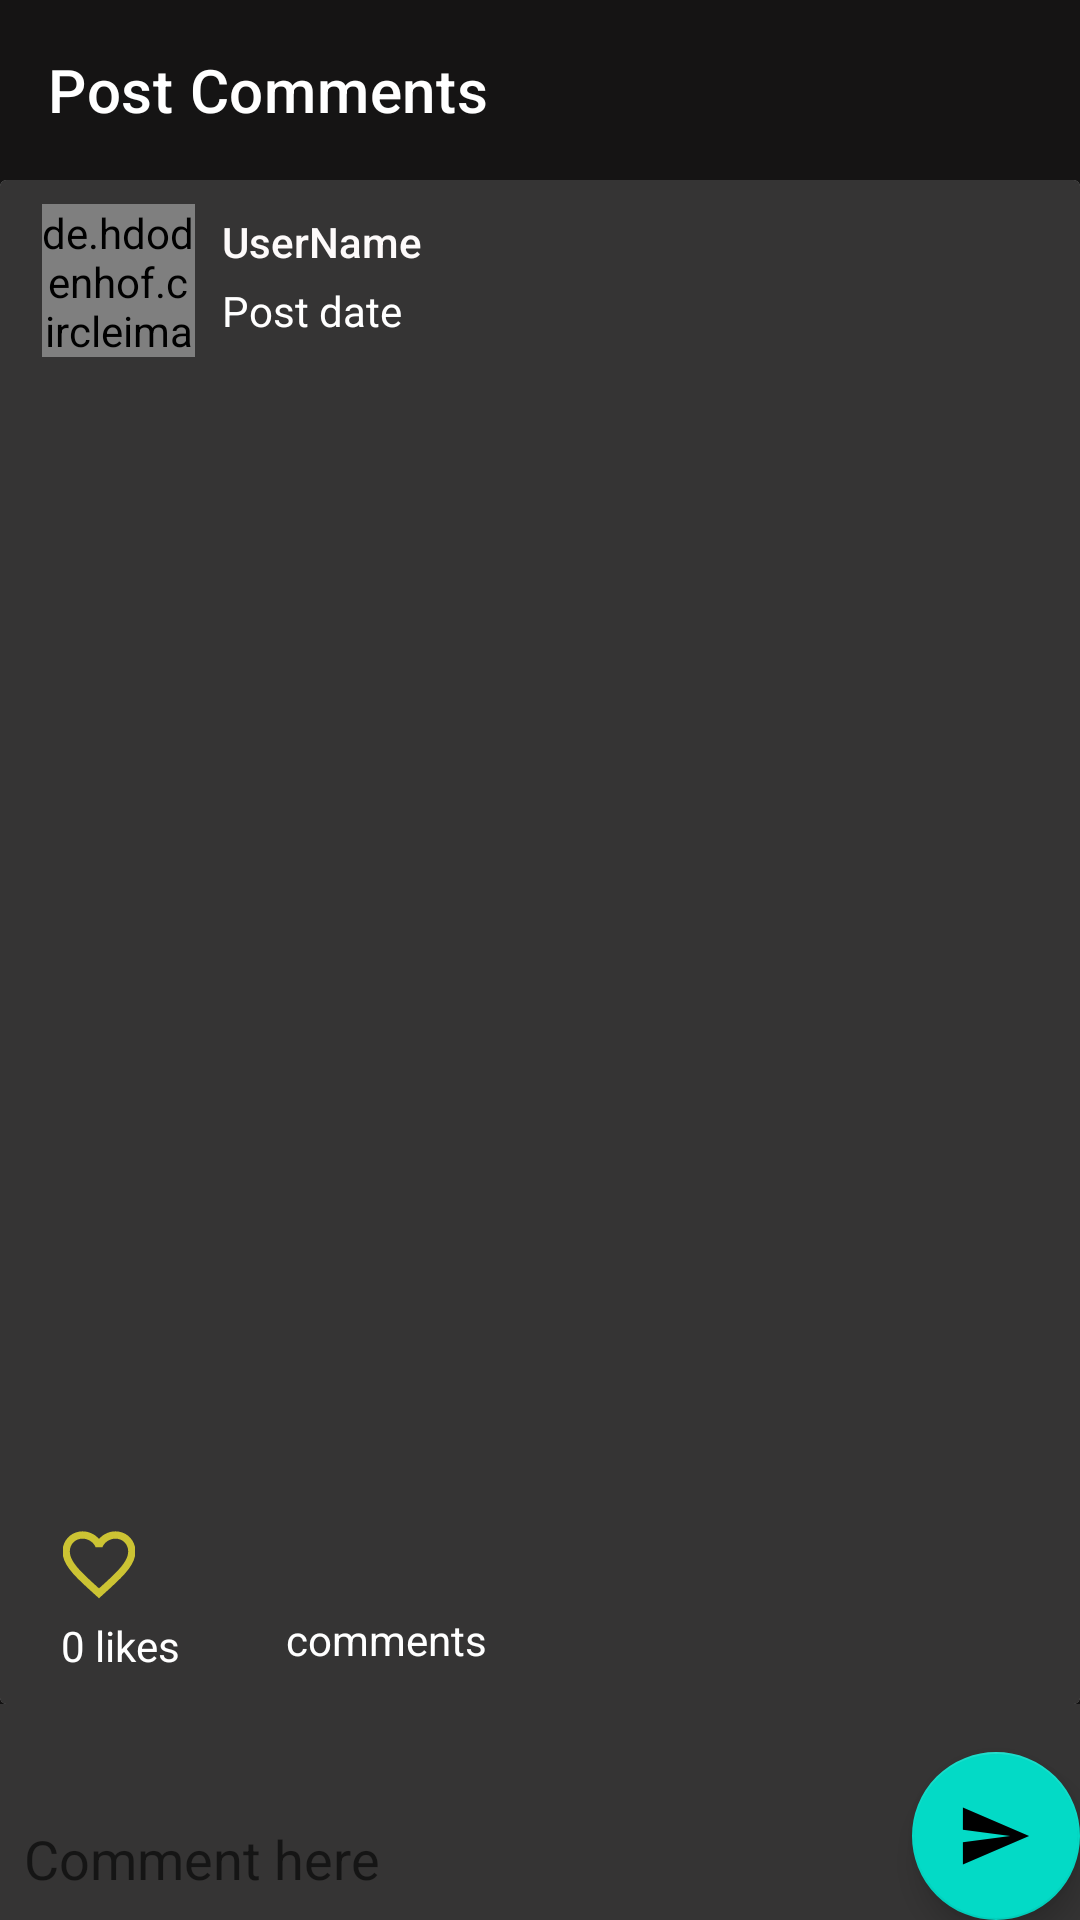

Screen size 1080*1920. Icon name, then its box in pixels as [left=x1, top=y1, right=x2, bottom=y2]:
fava: [left=63, top=1531, right=135, bottom=1598]
send: [left=912, top=1752, right=1080, bottom=1920]
